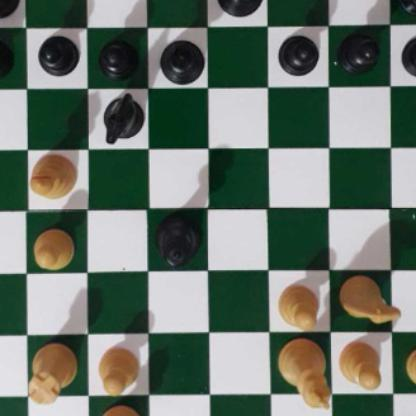black-bishop: (156, 38, 205, 86)
black-king: (213, 0, 265, 18)
black-knight: (100, 90, 146, 145)
black-pawn: (336, 30, 381, 74), (276, 30, 318, 74), (37, 33, 77, 76), (98, 35, 138, 77), (401, 32, 416, 77), (0, 35, 13, 76)
black-queen: (151, 212, 200, 266)
black-rook: (0, 0, 20, 18), (398, 0, 416, 14)
white-bishop: (28, 153, 80, 199), (96, 403, 145, 416)
white-king: (275, 335, 331, 410)
white-knight: (336, 274, 402, 326)
white-pawn: (337, 339, 383, 391), (96, 345, 140, 396), (276, 282, 321, 331), (29, 226, 76, 271), (405, 344, 416, 391)
white-rook: (24, 341, 79, 405)
